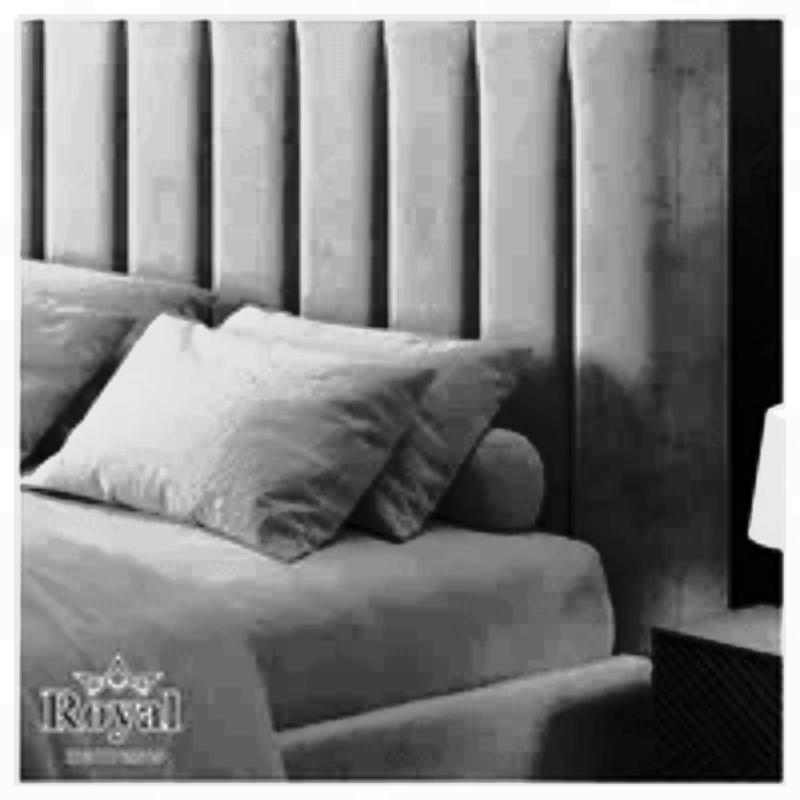pillow: (33, 309, 443, 567)
